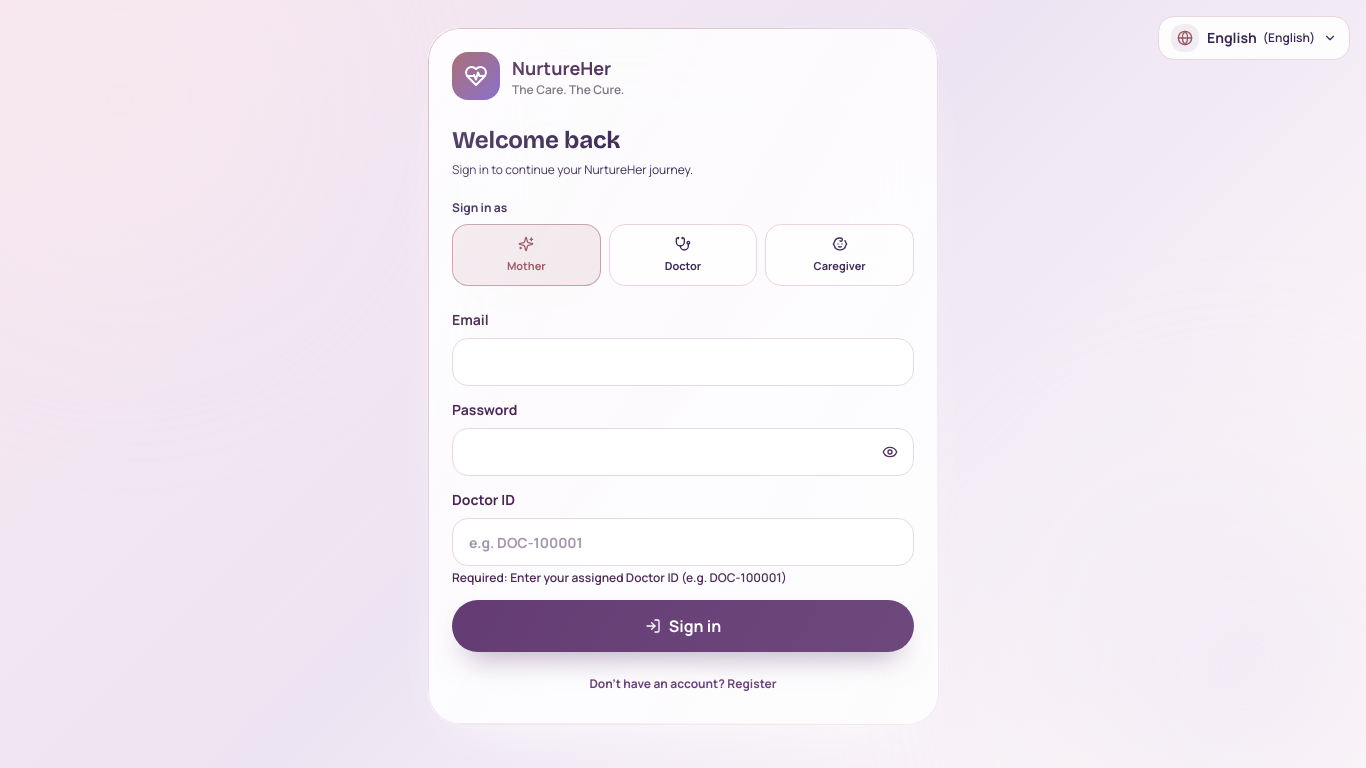
Test: AuthPage Component › Registration Form › switches to registration and shows Mother registration fields by default
Step 1. Click the button "Don't have an account? Register" → [683, 684], box [452,668,914,700]
(page scrolled)
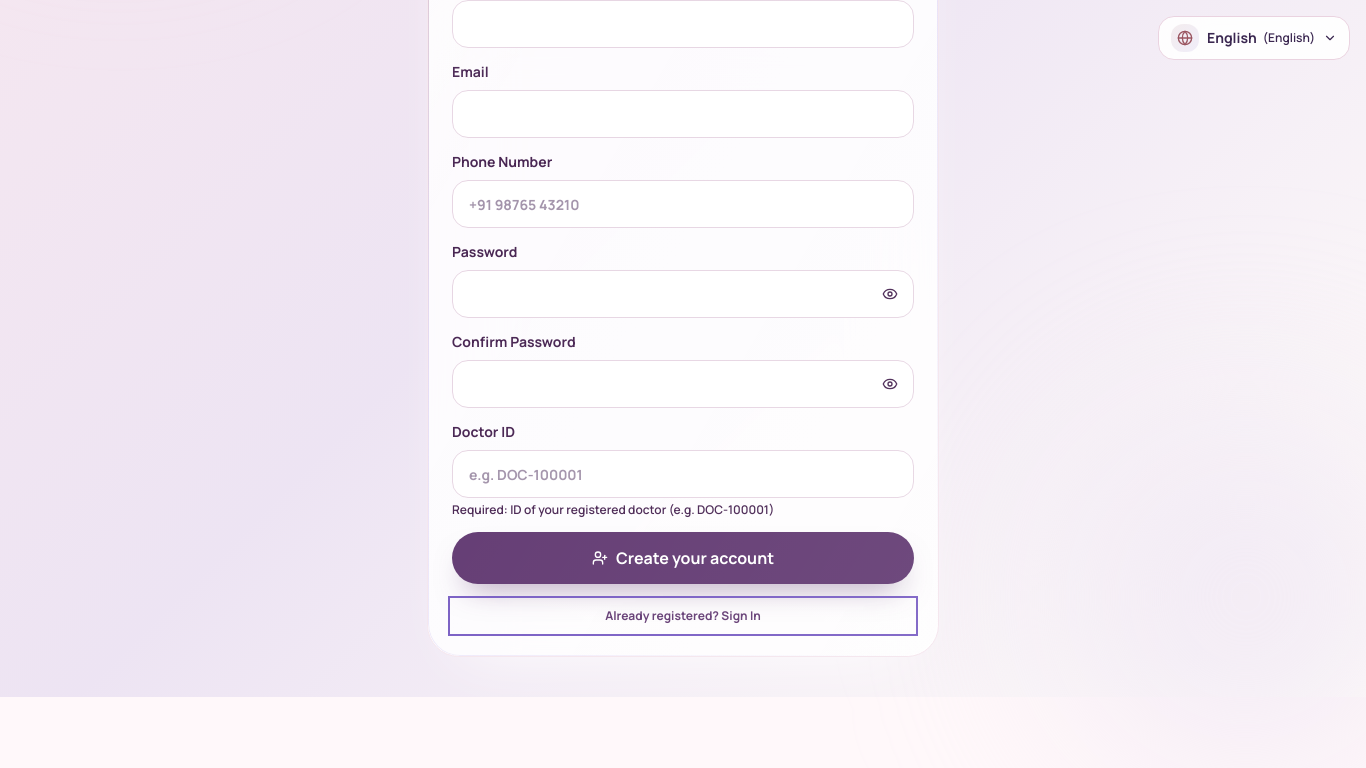
Check: the number field labelled "Age" is shown, box [452,0,914,48]
Check: the field labelled "Phone Number" is shown, box [452,180,914,228]
Check: the field labelled "Doctor ID" is shown, box [452,450,914,498]
